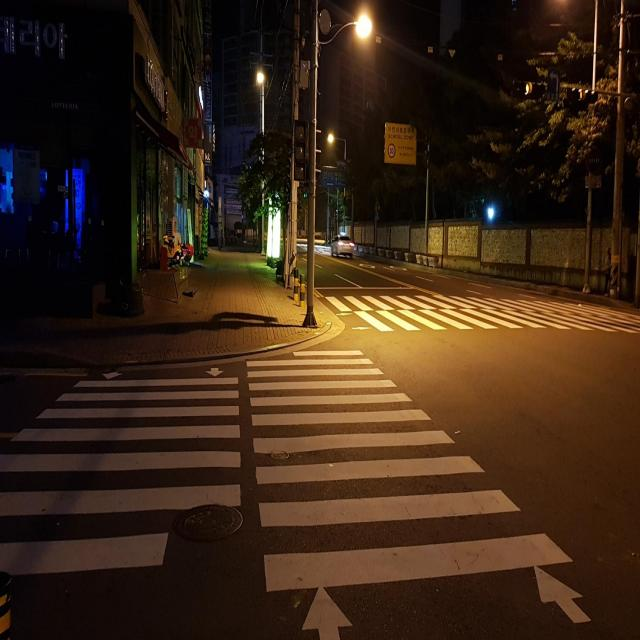횡단보도: (0, 348, 592, 639), (325, 278, 640, 337)
